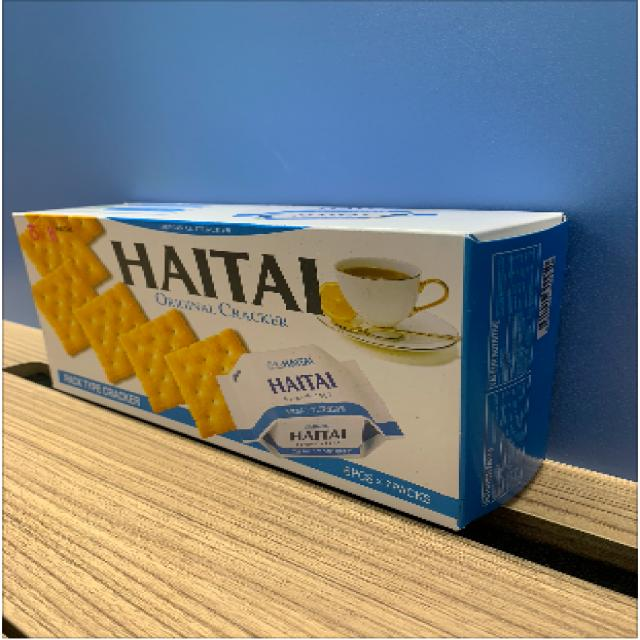object_name: (25, 200, 550, 481)
